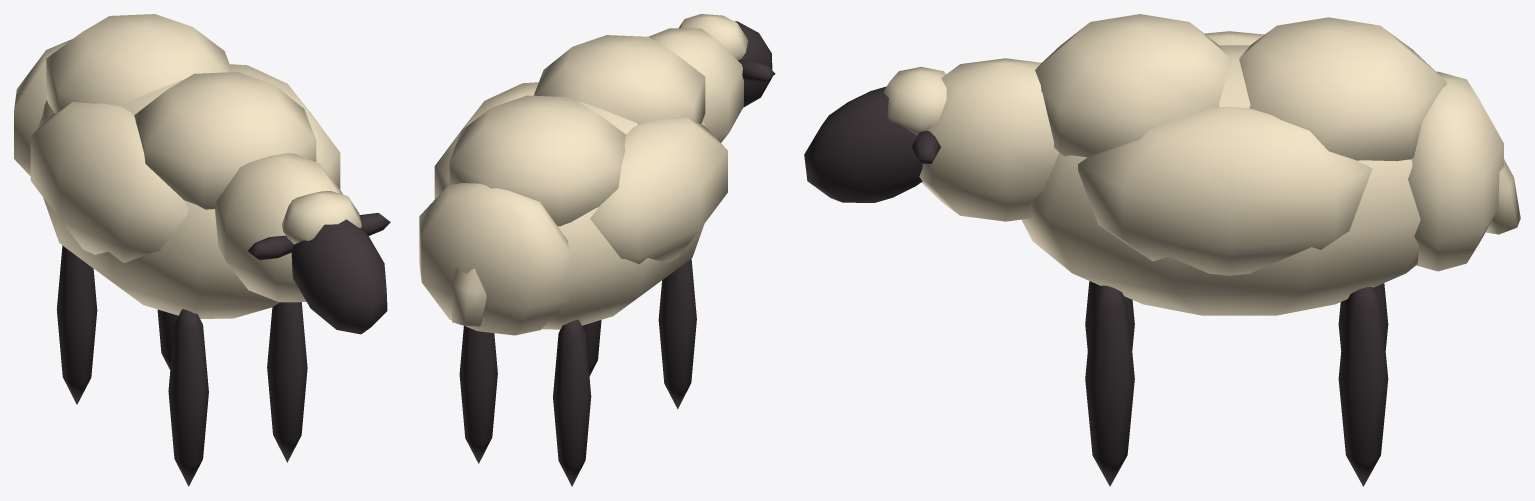
Rendered from sheep.glb.
The picture shows the model from 3 angles, left to right: view 1: azimuth 30°, elevation 25°; view 2: azimuth 150°, elevation 25°; view 3: azimuth 270°, elevation 25°; orthographic projection. The views are drawn at different scales.
Visible parts, largest first — view 1: sheep; view 2: sheep; view 3: sheep.
Part boxes in pixels (x1,y1,x2,y2): sheep: (14, 14, 390, 486); sheep: (419, 14, 775, 486); sheep: (804, 14, 1520, 486).
Size of the model in its own units: 0.6634 by 0.96 by 1.44.
